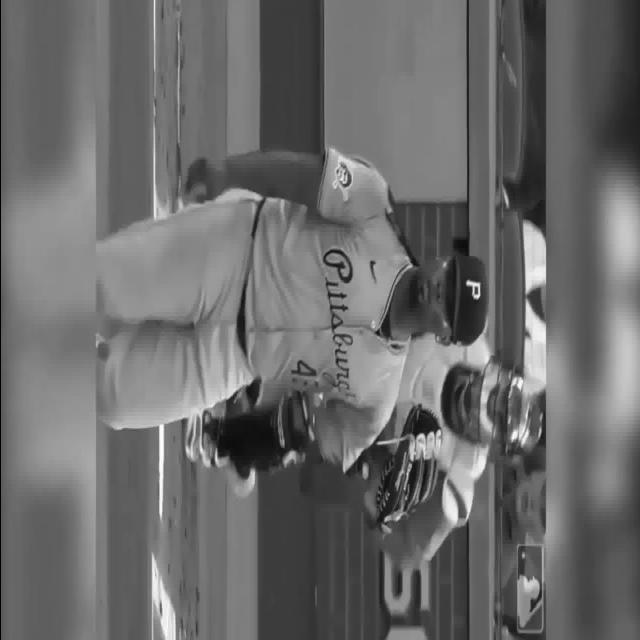baseball_glove: (376, 401, 444, 529)
